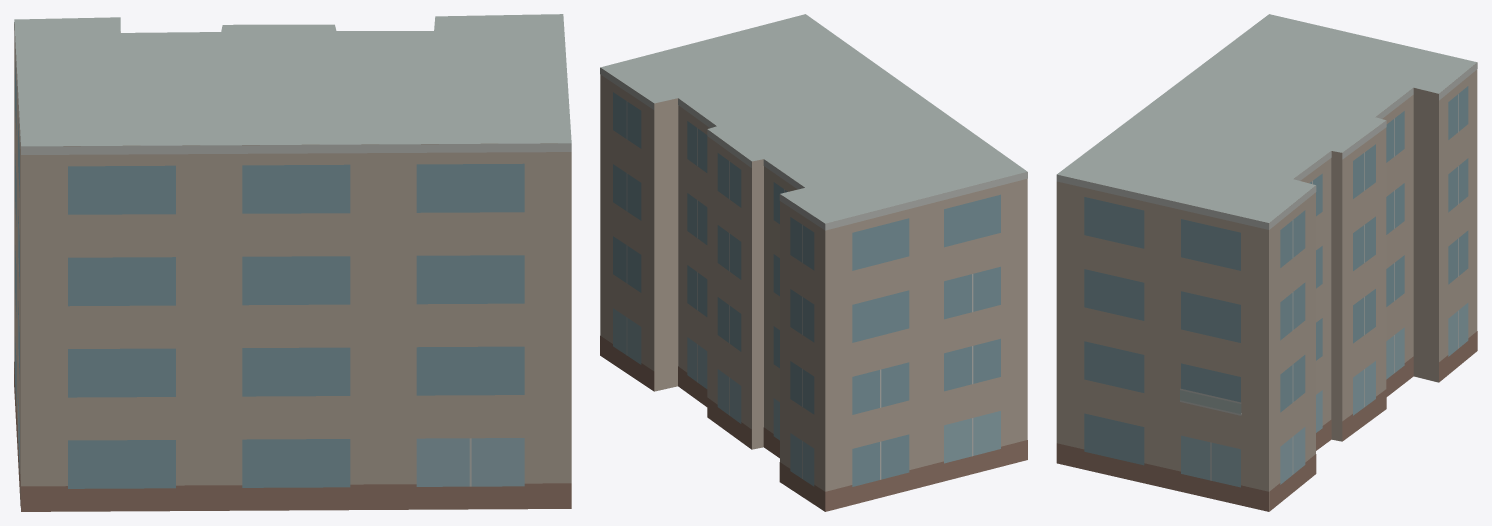
Rendered from survey-upis-32771276.glb.
The picture shows the model from 3 angles, left to right: view 1: azimuth 30°, elevation 25°; view 2: azimuth 150°, elevation 25°; view 3: azimuth 270°, elevation 25°; orthographic projection. The views are drawn at different scales.
Visible parts, largest first — view 1: survey-upis-32771276.tmp; view 2: survey-upis-32771276.tmp; view 3: survey-upis-32771276.tmp.
Part boxes in pixels (x1,y1,x2,y2): survey-upis-32771276.tmp: (14, 14, 571, 511); survey-upis-32771276.tmp: (600, 14, 1027, 511); survey-upis-32771276.tmp: (1056, 14, 1477, 511).
Bounding box in the file's own units: 15.85 × 10.2 × 13.48.
